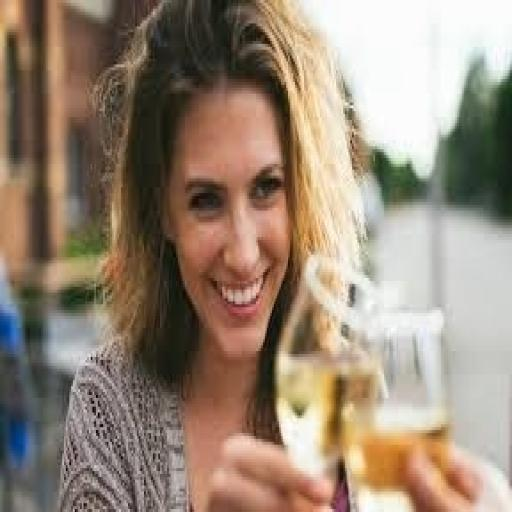drinking: (274, 249, 457, 509)
